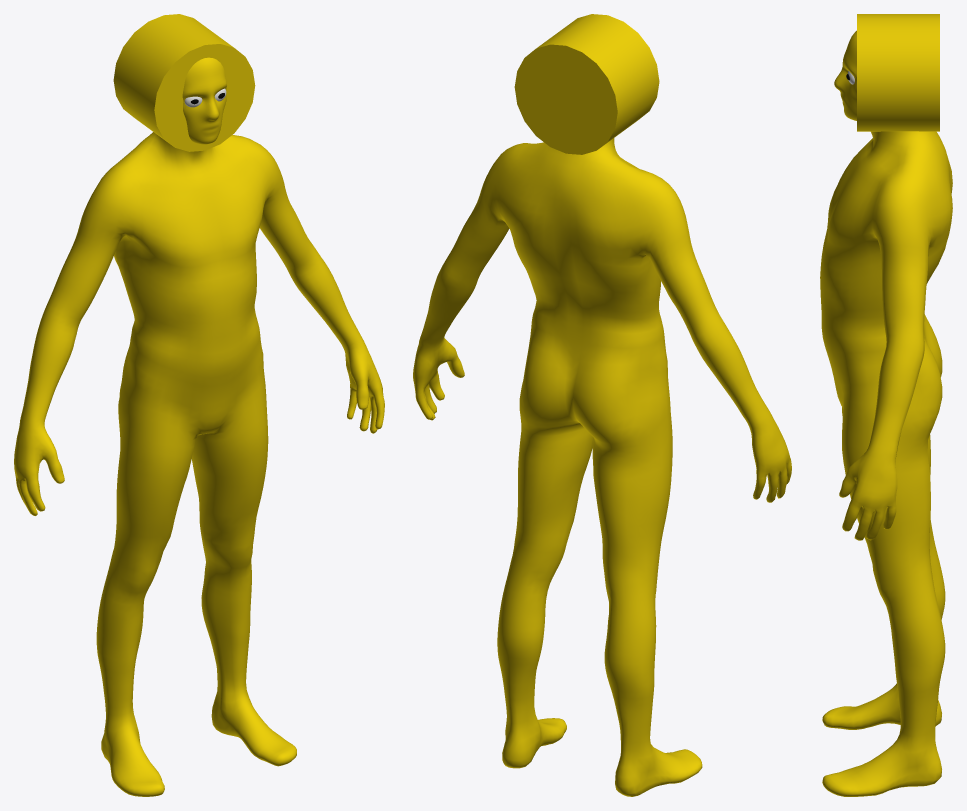
The model's file is The Brat.fbx.
The picture shows the model from 3 angles, left to right: view 1: azimuth 30°, elevation 25°; view 2: azimuth 150°, elevation 25°; view 3: azimuth 270°, elevation 25°; orthographic projection. The views are drawn at different scales.
Parts seen in each view (by area): view 1: HumanBody1:humanBody, pCylinder1; view 2: HumanBody1:humanBody, pCylinder1; view 3: HumanBody1:humanBody, pCylinder1.
Part boxes in pixels (x1=…): HumanBody1:humanBody: x1=14, y1=57, x2=384, y2=796; pCylinder1: x1=113, y1=14, x2=255, y2=151; HumanBody1:humanBody: x1=413, y1=138, x2=791, y2=796; pCylinder1: x1=514, y1=14, x2=659, y2=154; HumanBody1:humanBody: x1=820, y1=30, x2=952, y2=796; pCylinder1: x1=857, y1=14, x2=939, y2=131.
Bounding box in the file's own units: 71.61 × 138 × 22.41.
